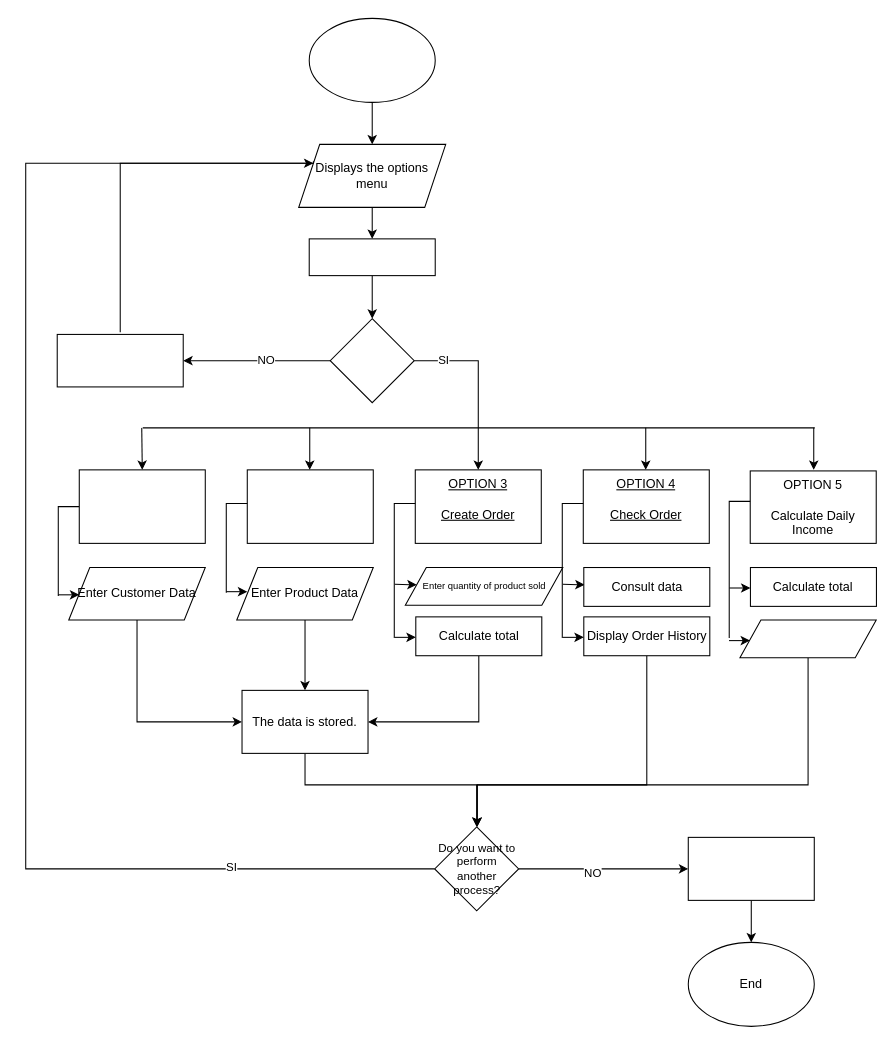
Image size: 896x1045. Some labels were removed from this diagram. Each missing label, with the centre of its shape:
"Invalid option" message: pixel 119 360
Choose process: pixel 371 257
Is this a valid option?: pixel 371 360
OPTION 1 Register Client: pixel 141 506
OPTION 2 Register Product: pixel 309 506
Show Total: pixel 807 638
start: pixel 371 59
